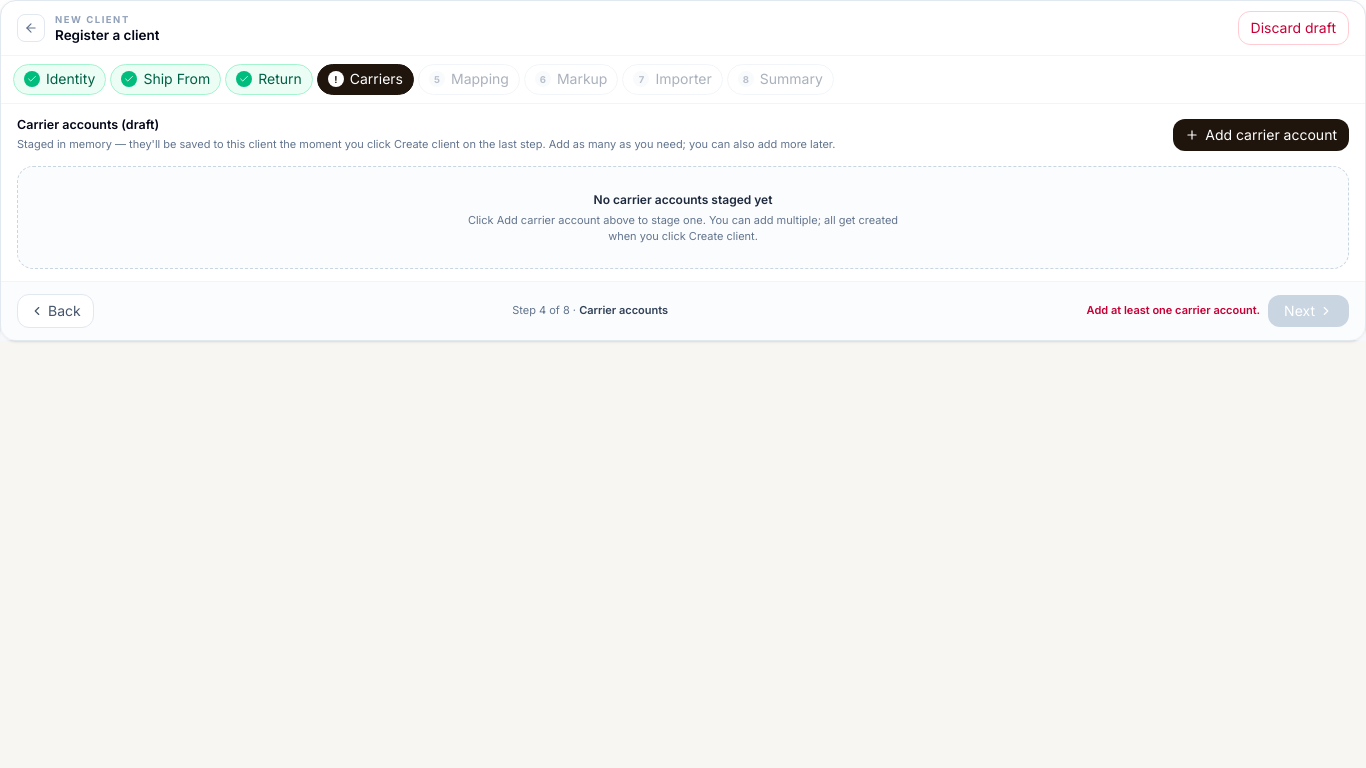
CarrierDraftStep — negative cases › empty account number → error surfaces on blur
Expected: the heading "Carrier accounts (draft)" is shown, 17,117 -> 159,132
Click the button "Add carrier account" at (1261, 135), box 1173,118 -> 1349,151
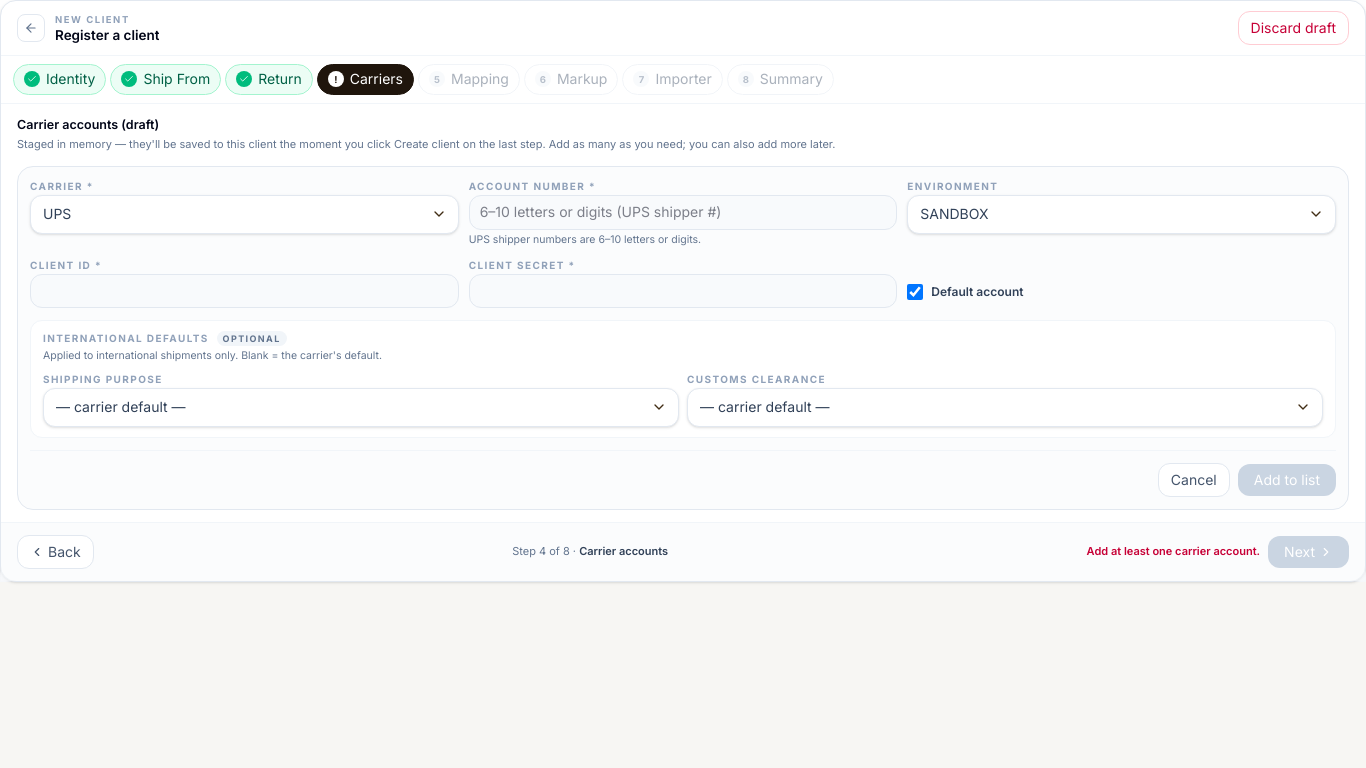
Leave the 1st field, box 469,195 -> 897,230
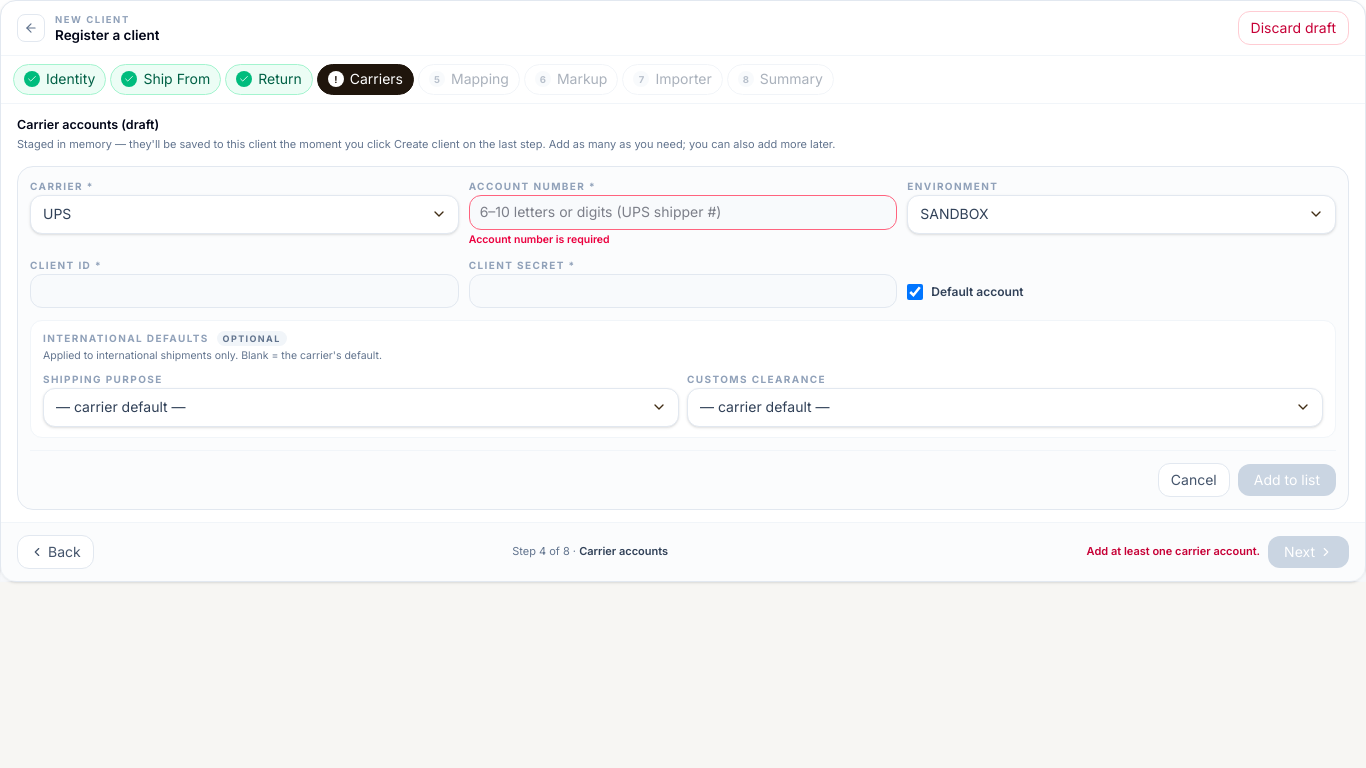
Result: the text "Account number is required" is shown at 469,232 -> 610,246
